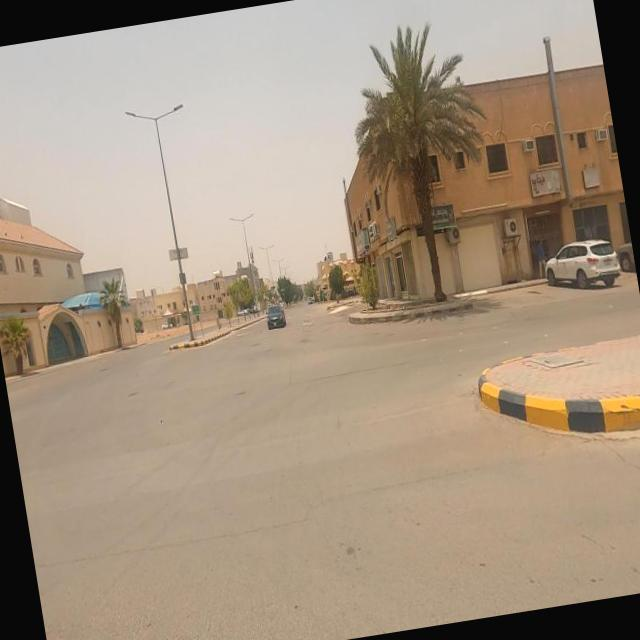debris: (499, 127, 593, 235), (562, 134, 623, 221)
